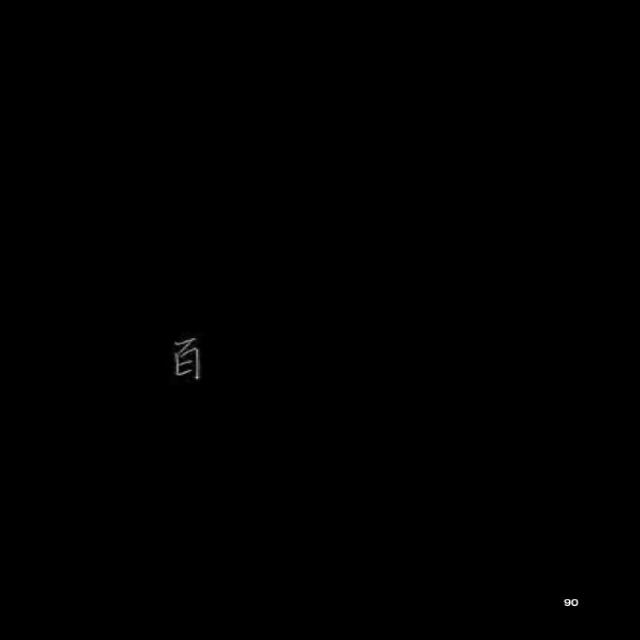100 -a hundred-: (153, 323, 216, 397)
